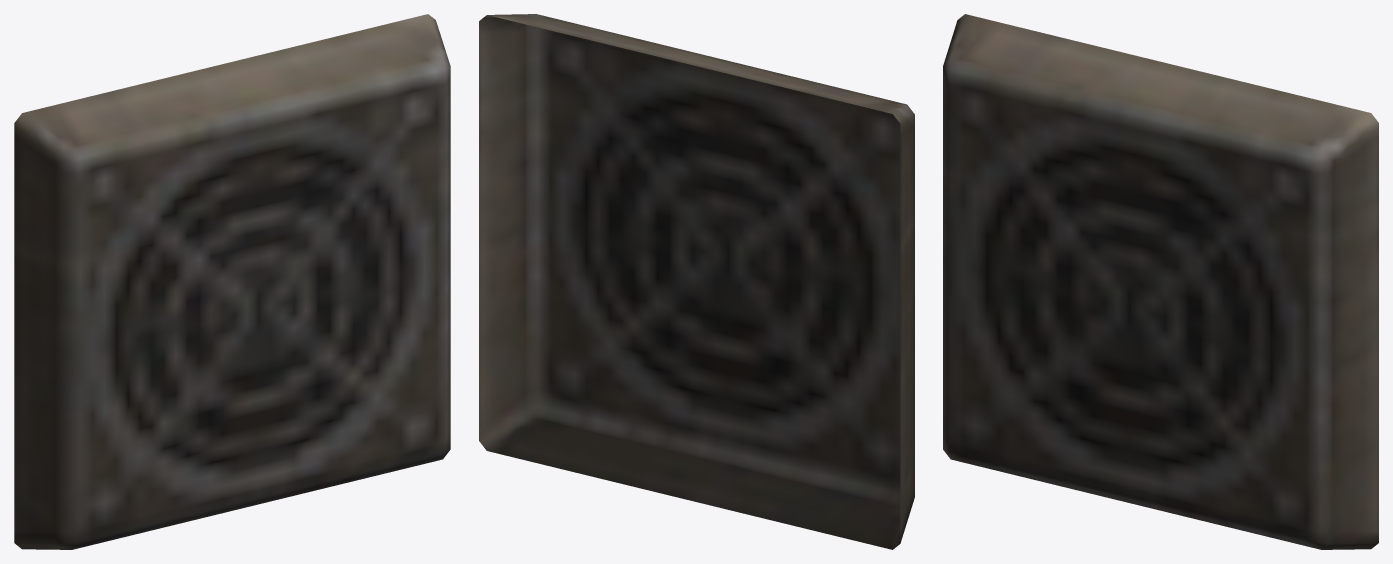
The model's file is computer_parts_fan.dae.
3 views of the same model, side by side, from view 1: azimuth 30°, elevation 25°; view 2: azimuth 150°, elevation 25°; view 3: azimuth 330°, elevation 25° (orthographic).
Parts seen in each view (by area): view 1: fan__2_; view 2: fan__2_; view 3: fan__2_.
Part boxes in pixels (bbox=[...]): fan__2_: bbox=[14, 14, 450, 549]; fan__2_: bbox=[479, 14, 914, 549]; fan__2_: bbox=[943, 14, 1378, 549].
Size of the model in its own units: 0.0968 by 0.0957 by 0.0144.
